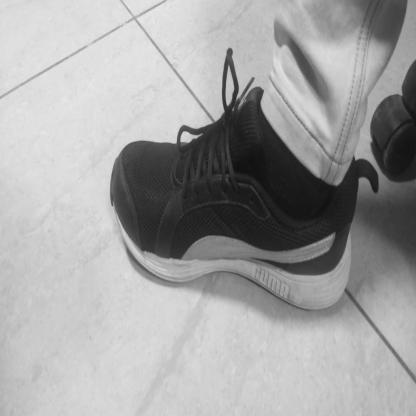ankle: (278, 196, 285, 208)
heel: (344, 243, 348, 251)
pinky: (141, 229, 146, 242)
right_foot: (111, 137, 360, 312)
toe: (131, 148, 136, 158)
